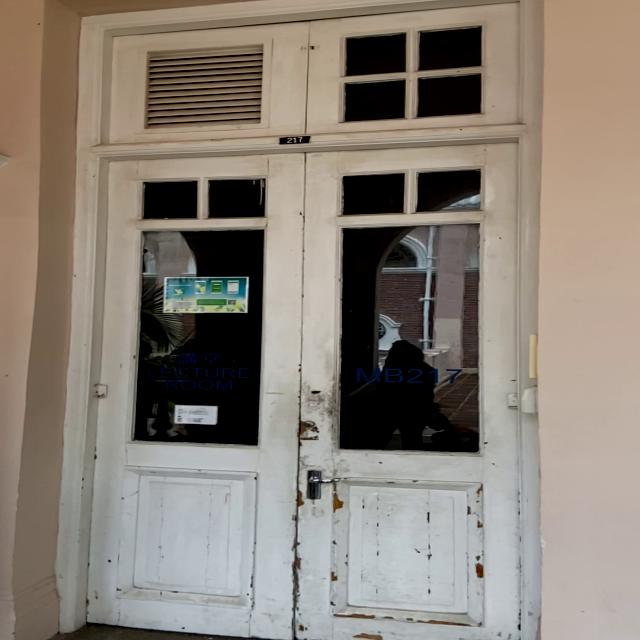room217: (278, 134, 314, 144)
room217Window: (351, 364, 467, 388)
